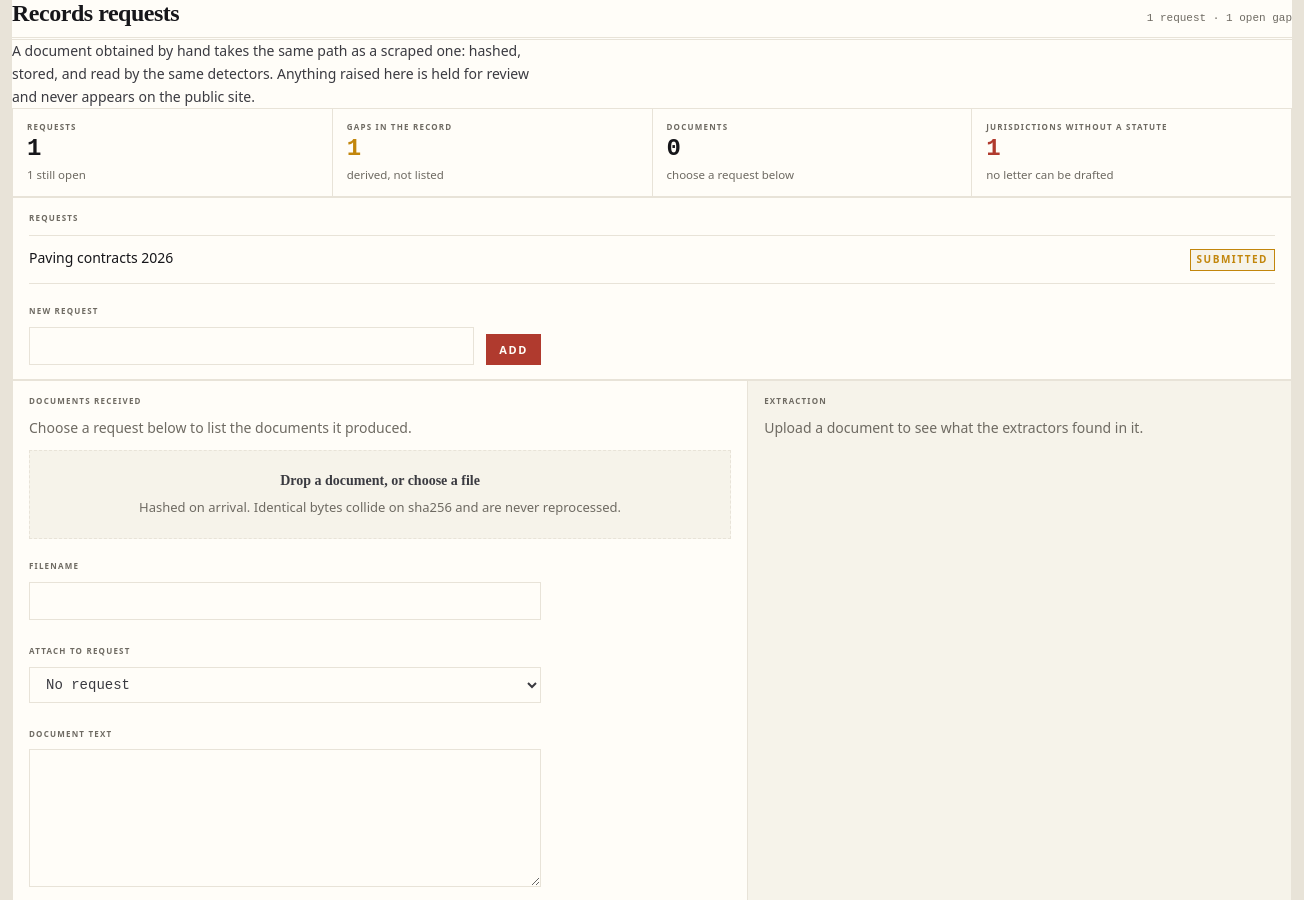
AdminRecordsPage › submits a correction as a whole replacement set, not an edit
Type "award.txt" into the field labelled "Filename" at (285, 601), box [29,582,541,620]
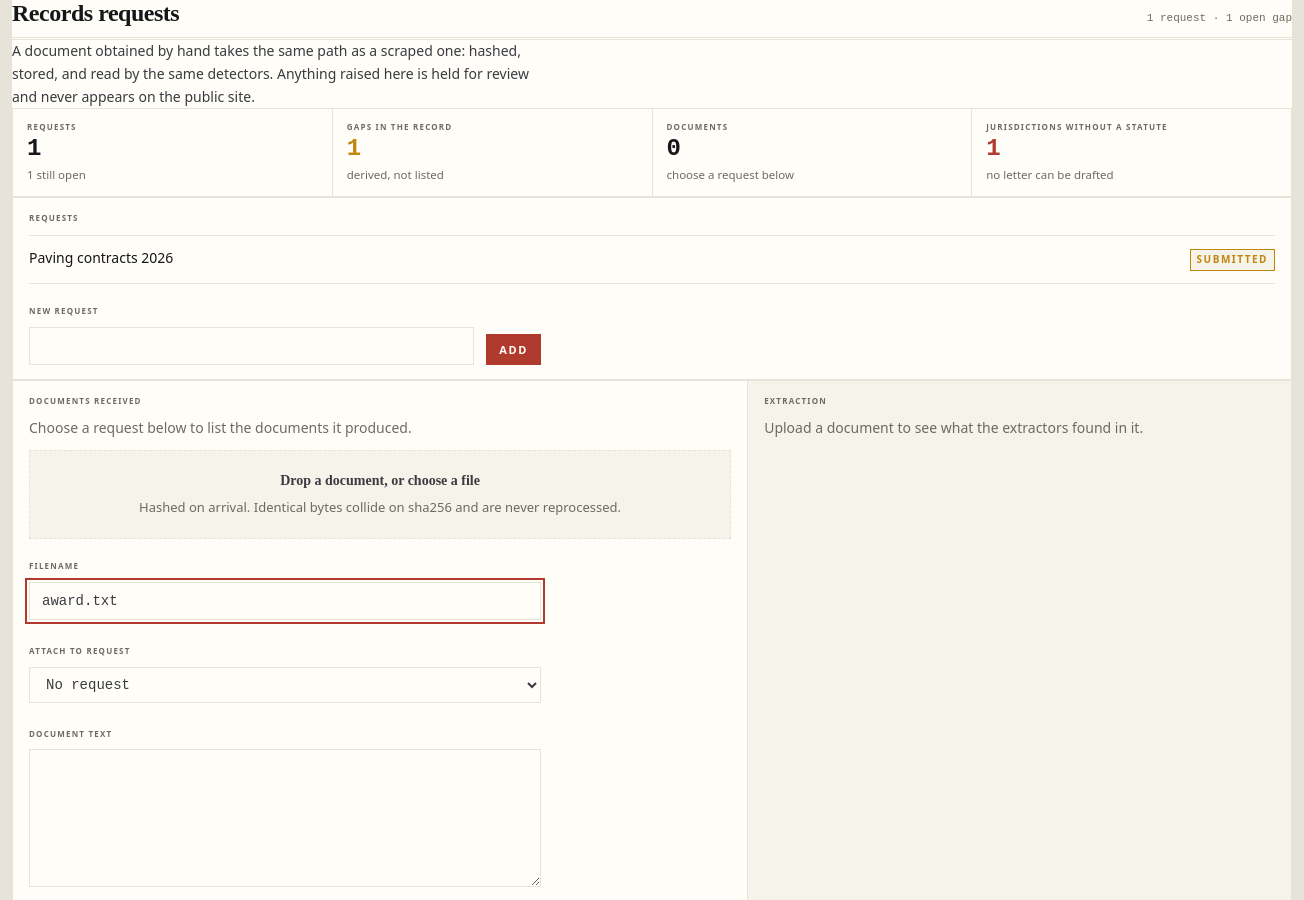
Type "A sole source award." into the text box labelled "Document text" at (285, 818), box [29,750,541,888]
(page scrolled)
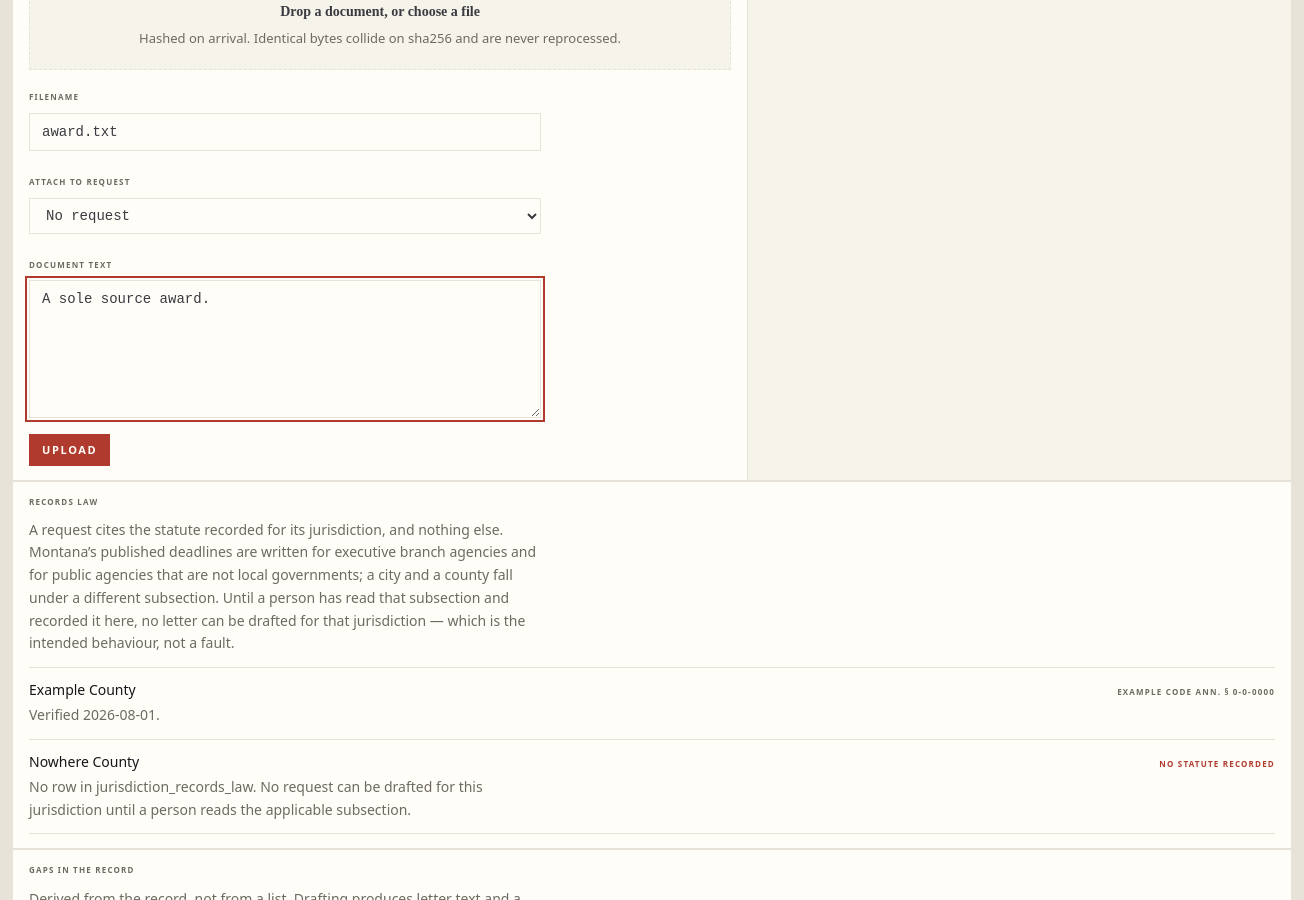
Click the button "Upload" at (70, 450), box [29,434,110,466]
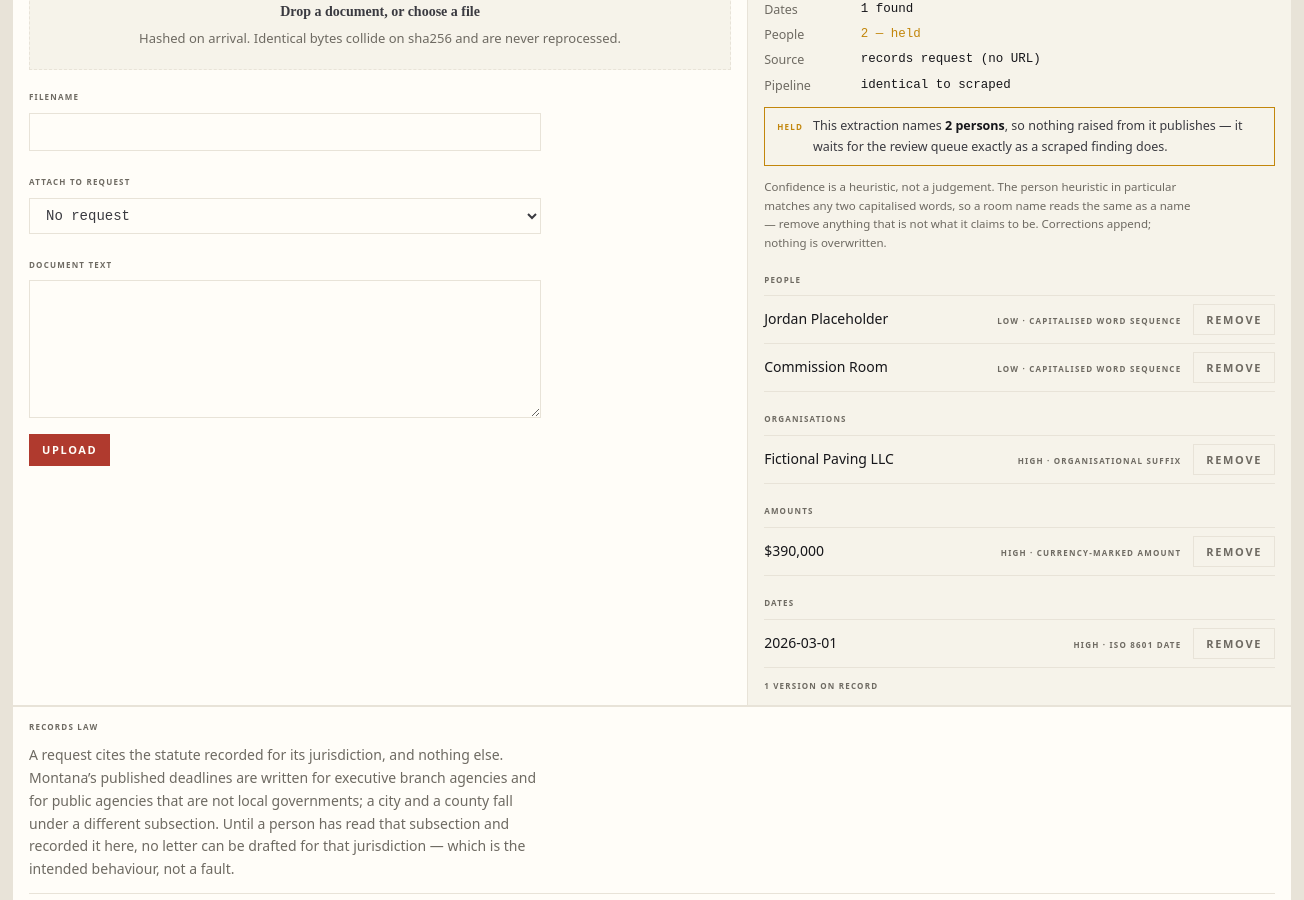
Expected: the text "Commission Room" is shown, [764,357,888,377]
Expected: the list item "Commission Room" is shown, [764,357,888,376]
Expected: the button "Remove" in the row of "Commission Room" is shown
Click the button "Remove" in the row of "Commission Room" at (1234, 368), box [1193,352,1275,383]
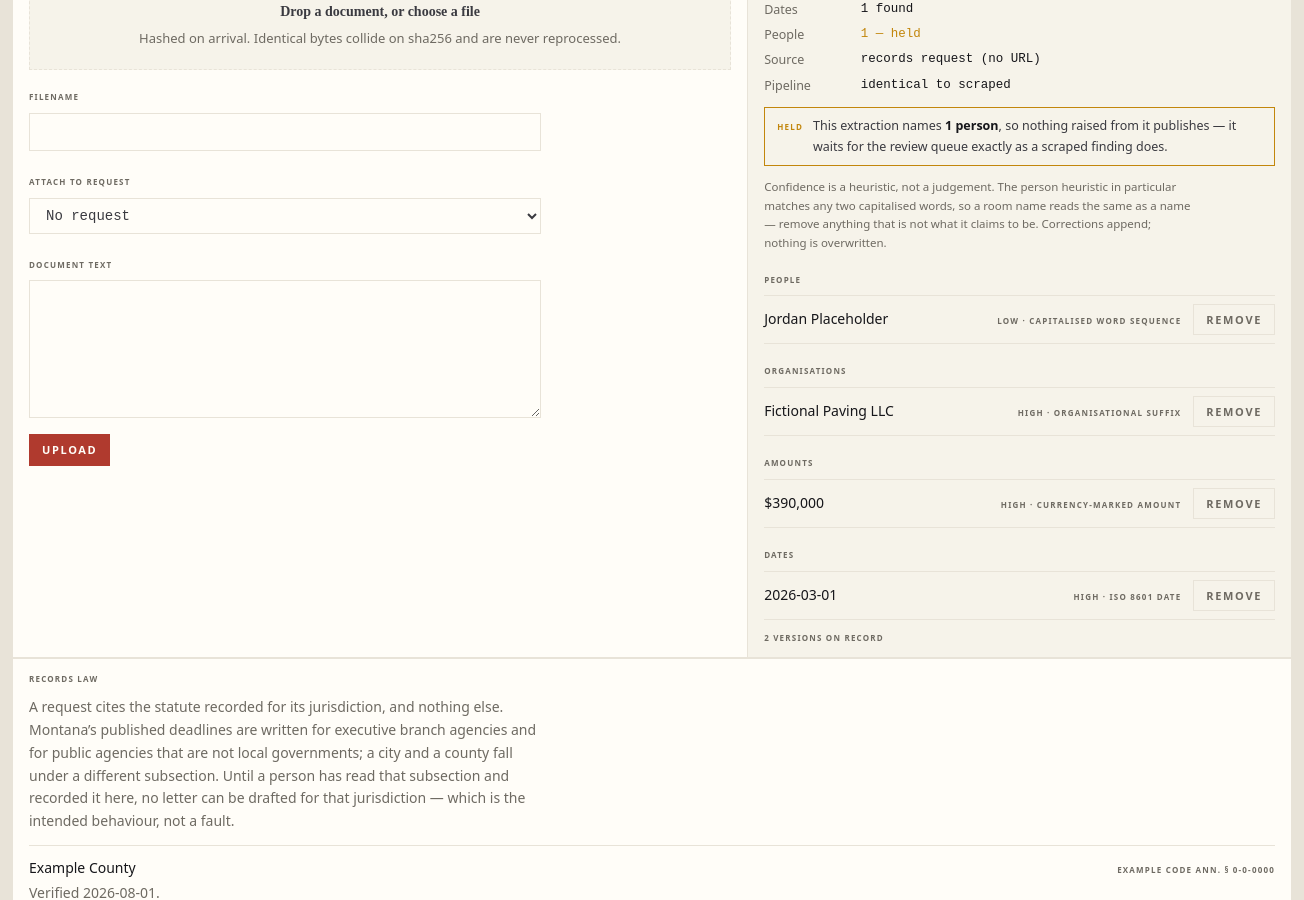
Expected: the text "2 versions on record" is shown, [764,632,884,643]
